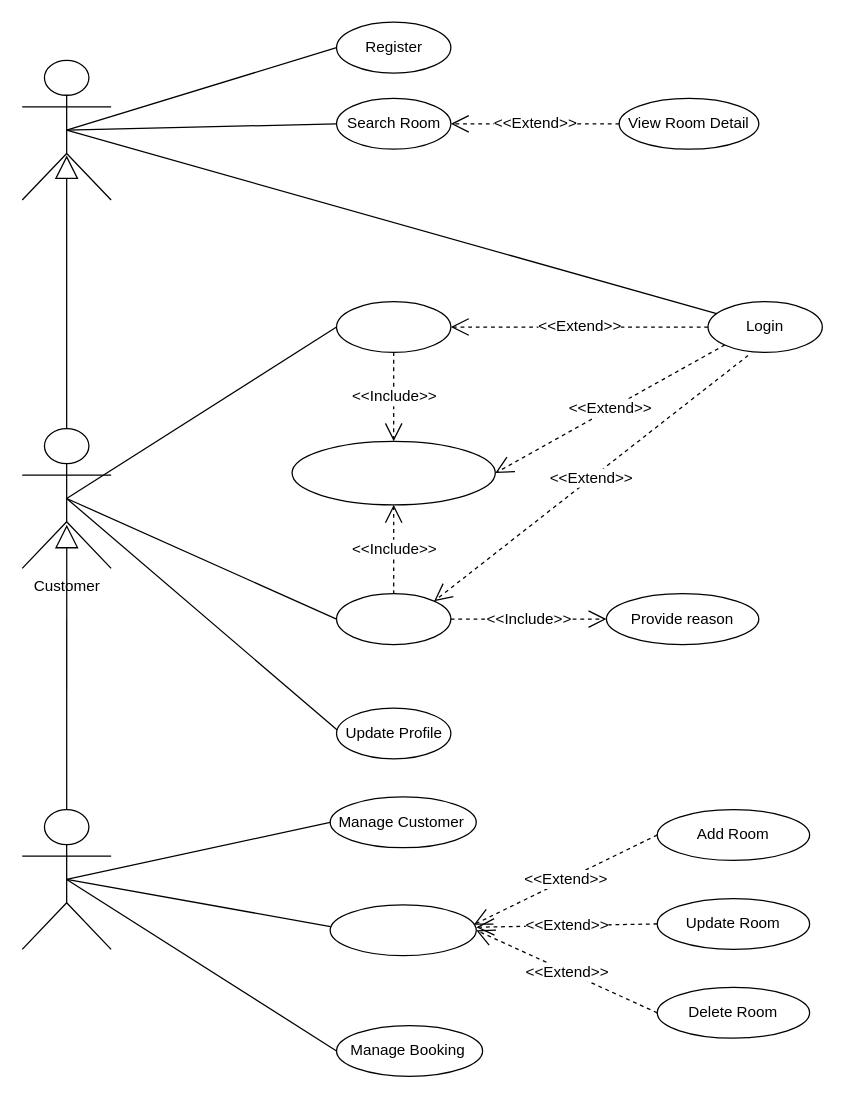
Some shapes in this 845 by 1099 pixel diagram are drawn without their labels. The shapes that lost their labels are listed below. From the top down, each one's box as (x1, y1, x2, y2) in pixels, then its label:
(21, 59, 111, 200): User
(335, 300, 451, 352): Book Room
(291, 440, 495, 505): Update Booking Status
(335, 592, 451, 645): Cancel Booking
(21, 808, 111, 949): Administrator
(329, 904, 476, 956): Manage Room
